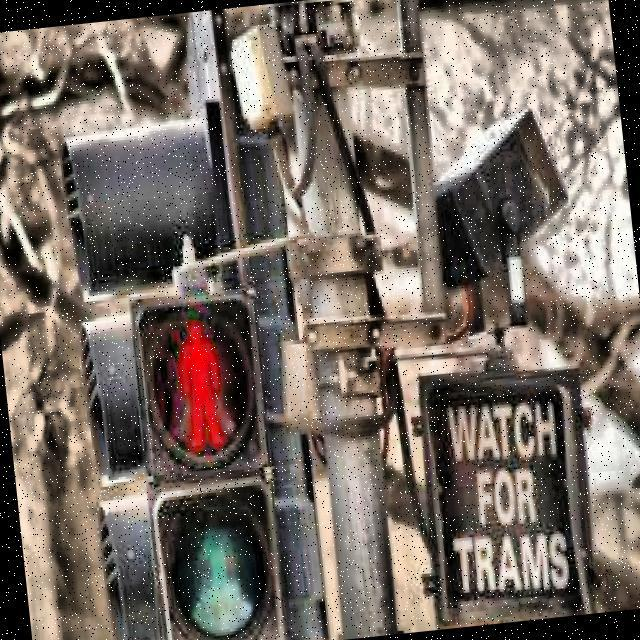red_light: (172, 320, 228, 450)
